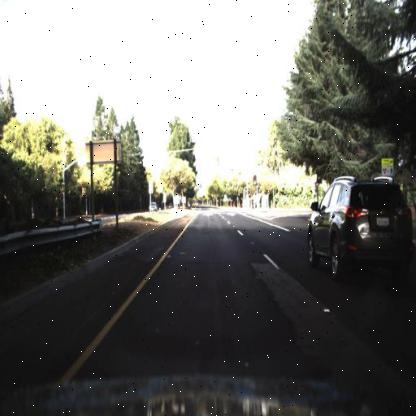car: (304, 175, 414, 284), (149, 200, 159, 214)
trafficLight-Green: (253, 172, 258, 190)
